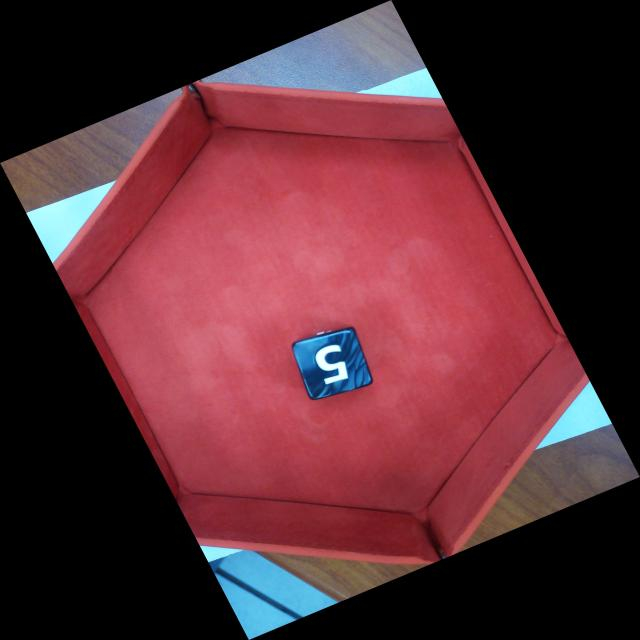dice: (298, 327, 373, 400)
